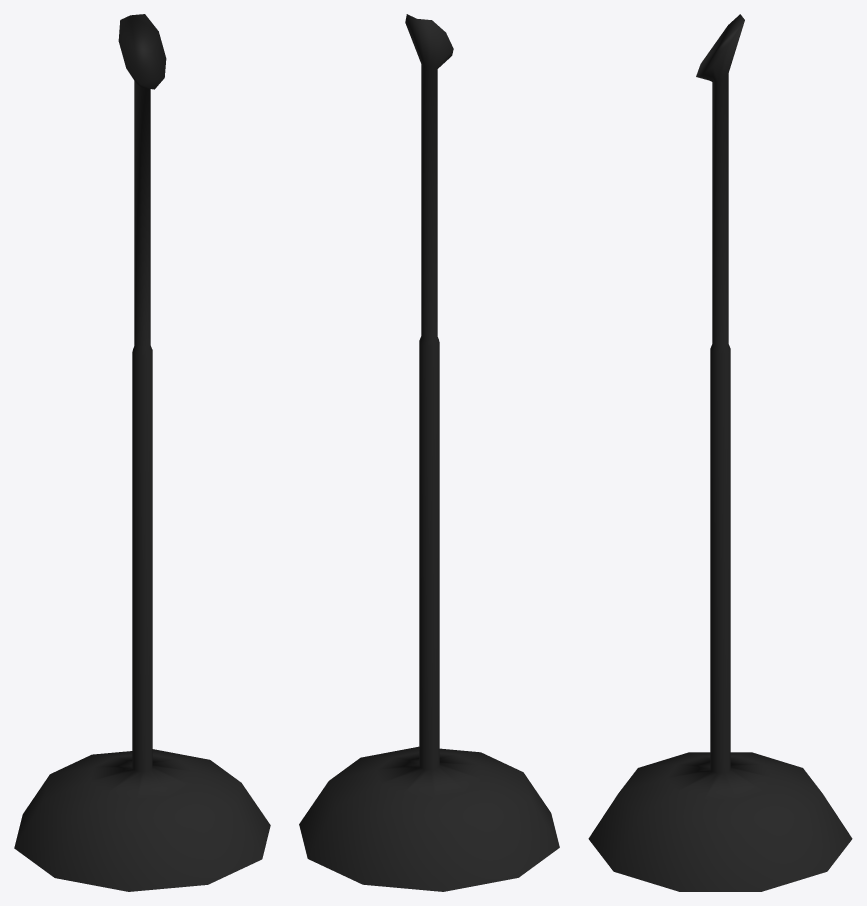
The model's file is MicrophoneStandEmpty.glb.
The picture shows the model from 3 angles, left to right: view 1: azimuth 30°, elevation 25°; view 2: azimuth 150°, elevation 25°; view 3: azimuth 270°, elevation 25°; orthographic projection.
Parts seen in each view (by area): view 1: MicrophoneStandEmpty; view 2: MicrophoneStandEmpty; view 3: MicrophoneStandEmpty.
Boxes of the visible parts, x1=… form: MicrophoneStandEmpty: x1=14, y1=14, x2=270, y2=891; MicrophoneStandEmpty: x1=299, y1=14, x2=559, y2=891; MicrophoneStandEmpty: x1=588, y1=14, x2=852, y2=891.
Size of the model in its own units: 0.4003 by 1.44 by 0.4209.
1 material, 1 textured.
